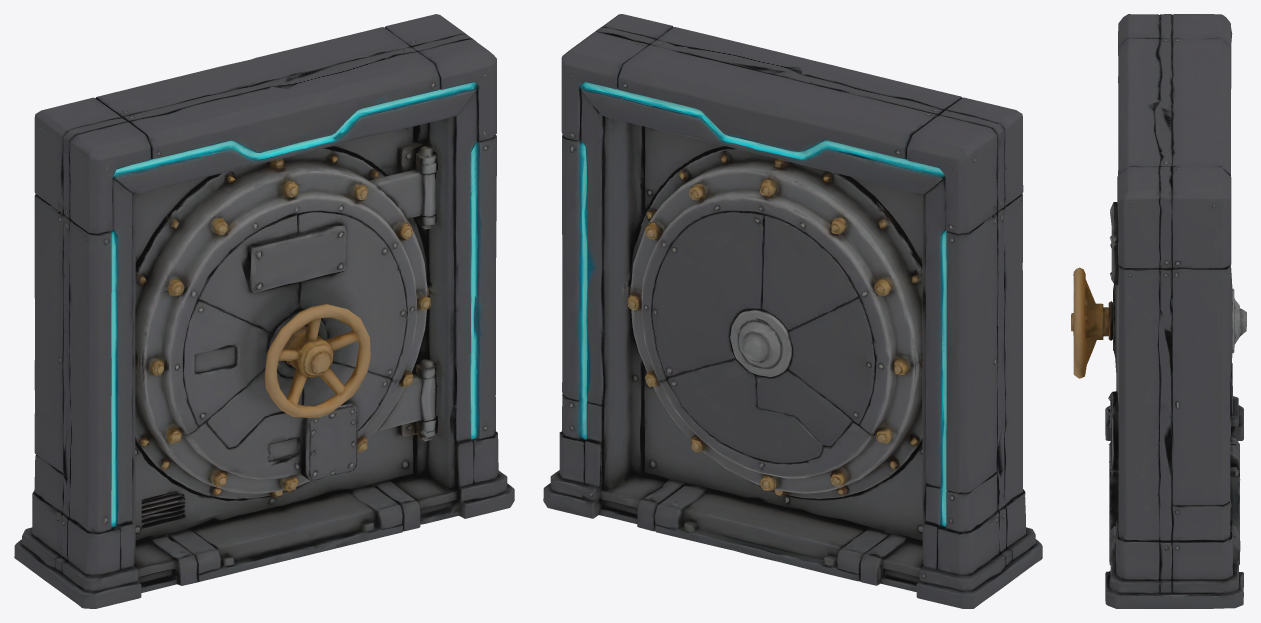
The model's file is prop-vault.glb.
3 views of the same model, side by side, from view 1: azimuth 30°, elevation 25°; view 2: azimuth 150°, elevation 25°; view 3: azimuth 270°, elevation 25° (orthographic). The views are drawn at different scales.
Parts seen in each view (by area): view 1: body; view 2: body; view 3: body.
Part boxes in pixels (x1,y1,x2,y2): body: (14, 14, 514, 608); body: (543, 14, 1042, 608); body: (1071, 14, 1246, 608).
Size of the model in its own units: 1 by 0.9999 by 0.3866.
1 material, 1 textured.
